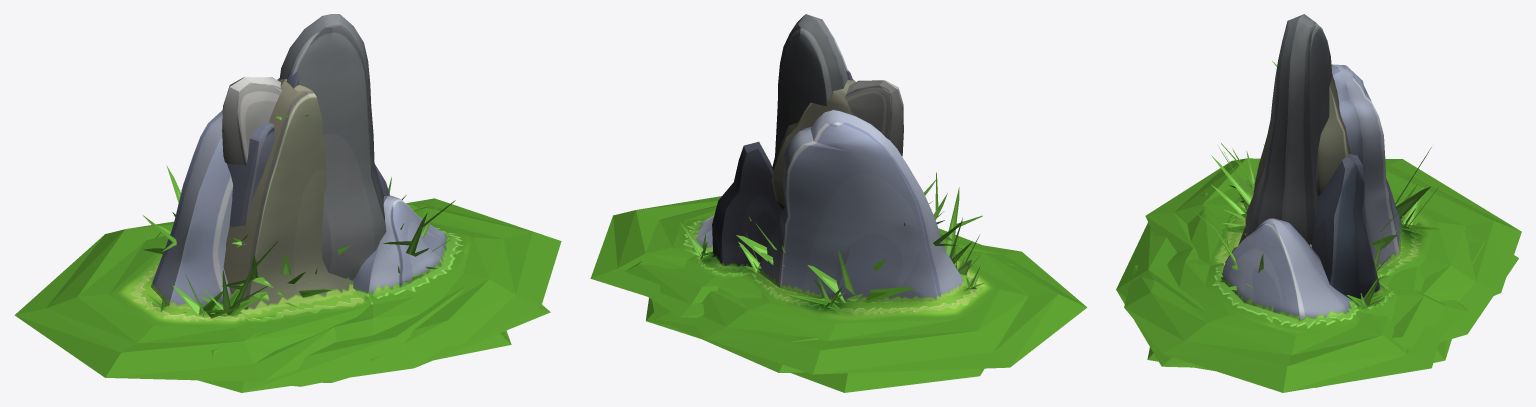
File: Rocks.fbx
3 renders of one model, left to right at view 1: azimuth 30°, elevation 25°; view 2: azimuth 150°, elevation 25°; view 3: azimuth 270°, elevation 25°, orthographic. The views are drawn at different scales.
Visible parts, largest first — view 1: Ground04, Rock04, Rock05, Rock03, Ground05, Rock01, Rock02, Leaves02, Leaves03, Leaves04, Ground01, Leaves05 (+1 smaller); view 2: Rock04, Ground04, Rock02, Rock03, Ground02, Rock01, Ground05, Ground03, Rock05, Leaves03, Leaves02, Leaves04 (+1 smaller); view 3: Ground04, Rock04, Rock03, Rock02, Ground05, Rock05, Ground02, Leaves03, Leaves01, Leaves04, Leaves05, Leaves02 (+1 smaller).
Part boxes in pixels (left/top/right/bottom): Ground04: left=14, top=198, right=561, bottom=381; Rock04: left=109, top=110, right=473, bottom=327; Rock05: left=223, top=78, right=368, bottom=323; Rock03: left=279, top=14, right=386, bottom=280; Ground05: left=156, top=225, right=550, bottom=392; Rock01: left=222, top=77, right=281, bottom=165; Rock02: left=227, top=70, right=389, bottom=226; Leaves02: left=173, top=113, right=406, bottom=318; Leaves03: left=143, top=165, right=331, bottom=307; Leaves04: left=146, top=189, right=317, bottom=315; Ground01: left=292, top=330, right=511, bottom=386; Leaves05: left=383, top=200, right=455, bottom=281; Rock04: left=673, top=109, right=999, bottom=323; Ground04: left=590, top=196, right=1087, bottom=374; Rock02: left=688, top=70, right=853, bottom=277; Rock03: left=772, top=14, right=848, bottom=169; Ground02: left=625, top=259, right=1016, bottom=317; Rock01: left=845, top=80, right=903, bottom=156; Ground05: left=651, top=228, right=981, bottom=372; Ground03: left=790, top=368, right=984, bottom=392; Rock05: left=740, top=79, right=855, bottom=284; Leaves03: left=807, top=172, right=952, bottom=302; Leaves02: left=680, top=187, right=982, bottom=278; Leaves04: left=738, top=216, right=984, bottom=313; Ground04: left=1124, top=158, right=1521, bottom=392; Rock04: left=1205, top=64, right=1436, bottom=335; Rock03: left=1245, top=14, right=1332, bottom=244; Rock02: left=1311, top=154, right=1396, bottom=314; Ground05: left=1116, top=208, right=1518, bottom=367; Rock05: left=1210, top=75, right=1393, bottom=284; Ground02: left=1200, top=193, right=1469, bottom=349; Leaves03: left=1211, top=143, right=1431, bottom=232; Leaves01: left=1211, top=155, right=1412, bottom=250; Leaves04: left=1240, top=151, right=1439, bottom=236; Leaves05: left=1193, top=209, right=1393, bottom=290; Leaves02: left=1218, top=61, right=1397, bottom=310.
Size of the model in its own units: 338 by 198 by 248.
2 materials, 1 textured.
